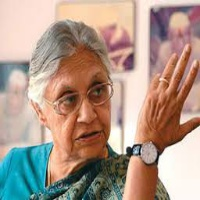ring: (157, 52, 180, 92)
